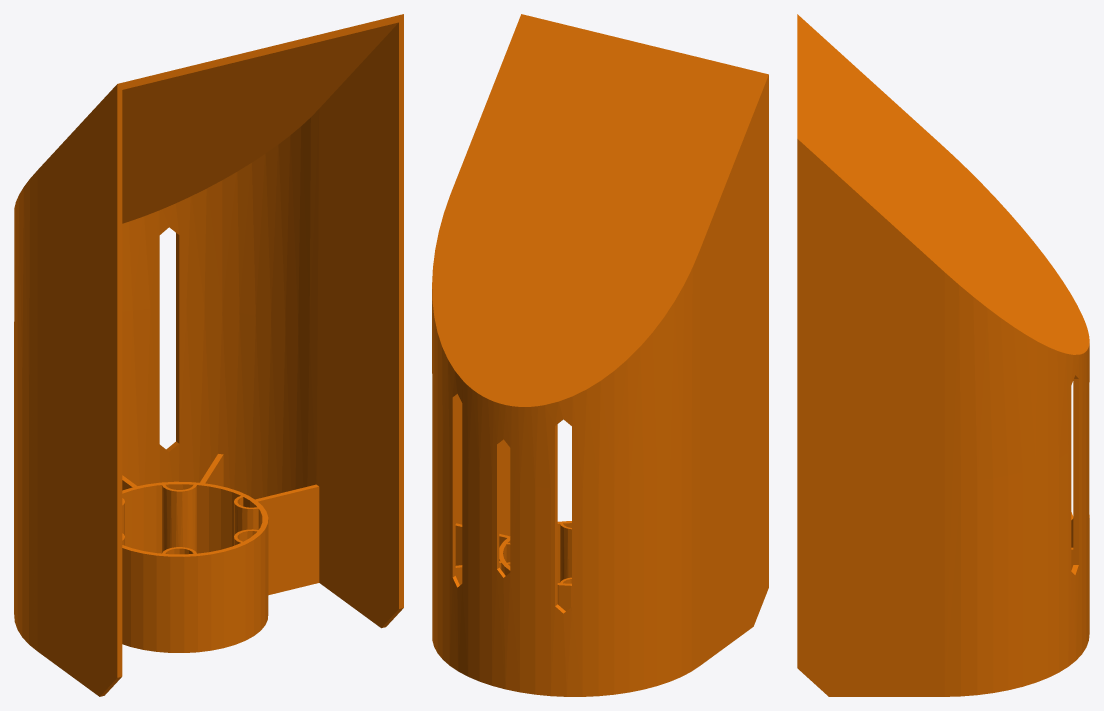
File: SimpleLampshade.glb
3 renders of one model, left to right at view 1: azimuth 30°, elevation 25°; view 2: azimuth 150°, elevation 25°; view 3: azimuth 270°, elevation 25°, orthographic. The views are drawn at different scales.
Visible parts, largest first — view 1: SimpleLampshade_LowRes; view 2: SimpleLampshade_LowRes; view 3: SimpleLampshade_LowRes.
Boxes of the visible parts, x1,y1,x2,y2 form: SimpleLampshade_LowRes: [14, 14, 403, 696]; SimpleLampshade_LowRes: [432, 14, 768, 696]; SimpleLampshade_LowRes: [797, 14, 1089, 696].
Bounding box in the file's own units: 93.39 × 195 × 92.5.
